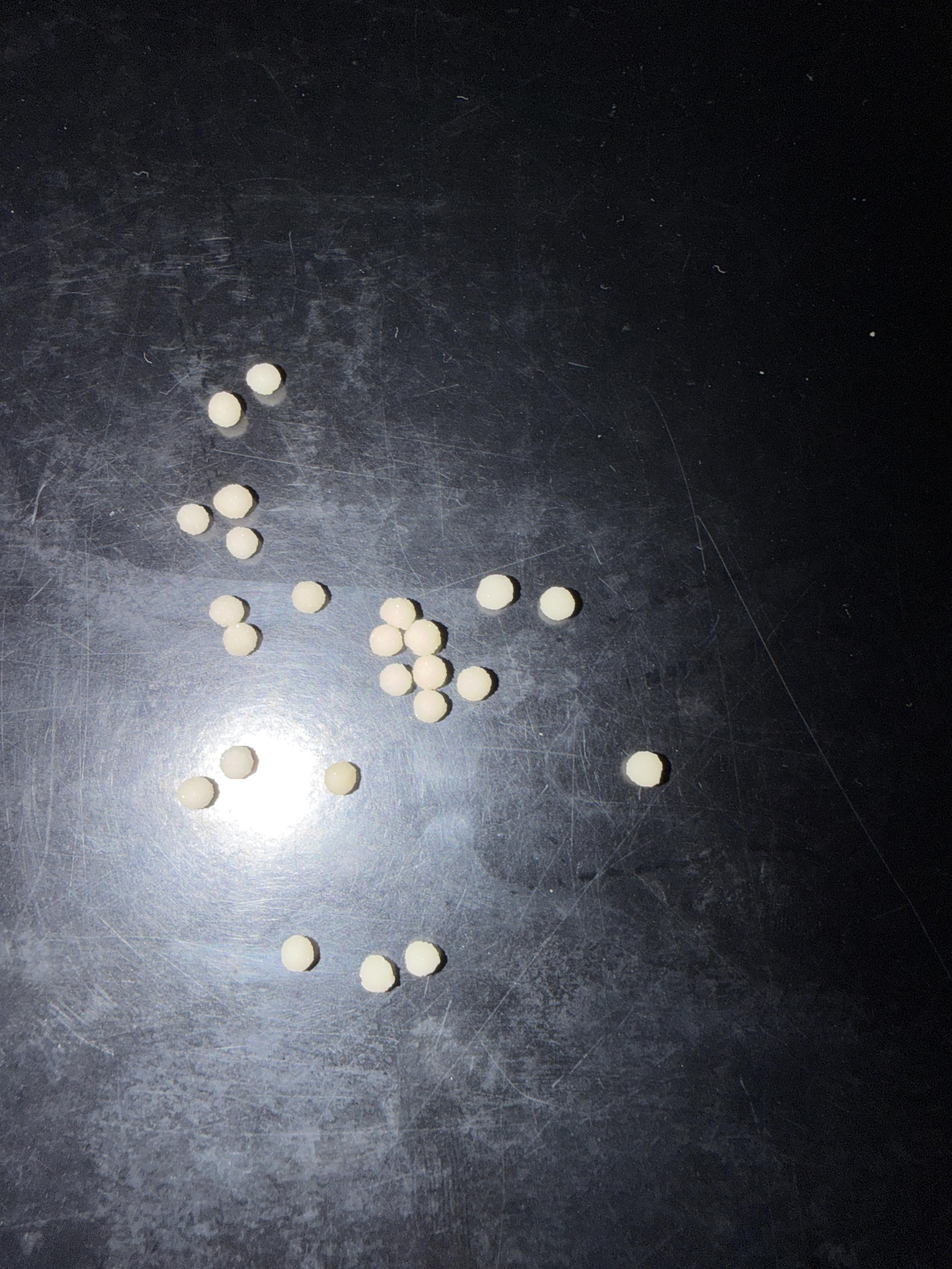pill: (403, 619, 442, 656), (476, 574, 514, 611), (404, 941, 443, 977), (360, 954, 396, 993), (625, 751, 664, 787), (213, 484, 253, 519), (281, 935, 317, 972), (456, 666, 493, 701), (207, 392, 242, 428), (539, 587, 576, 621), (412, 655, 449, 689), (176, 777, 214, 810), (219, 745, 255, 779), (222, 622, 258, 656), (379, 597, 416, 630), (291, 581, 329, 613), (414, 689, 448, 723), (324, 761, 358, 795), (369, 624, 404, 657), (209, 596, 246, 627), (379, 663, 413, 696), (226, 527, 261, 559), (246, 363, 281, 395), (176, 503, 211, 535)
